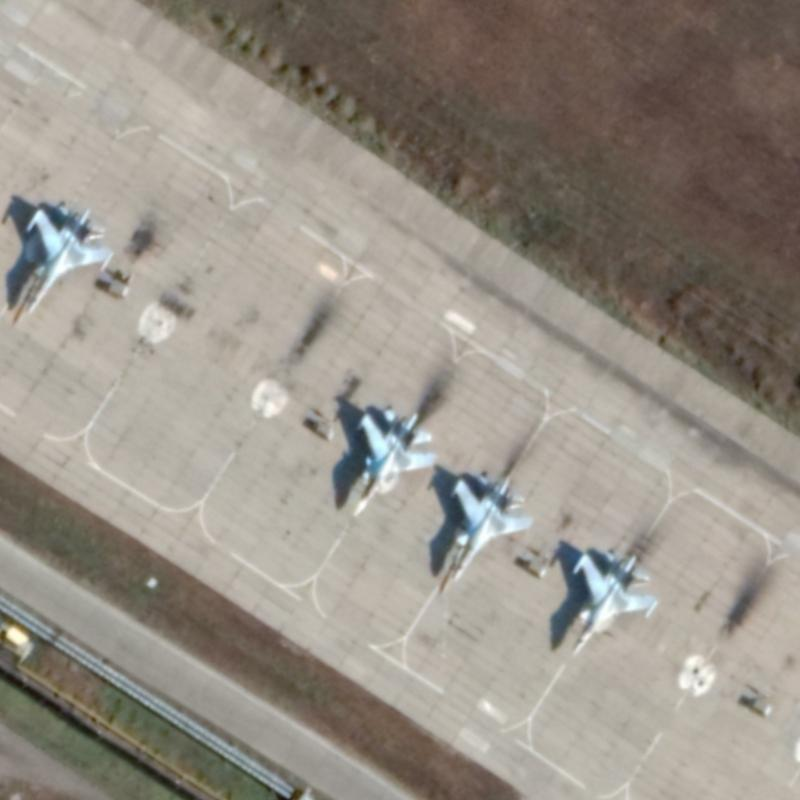A1: (435, 472, 533, 597), (564, 548, 662, 658), (22, 205, 113, 320), (348, 408, 435, 520)
